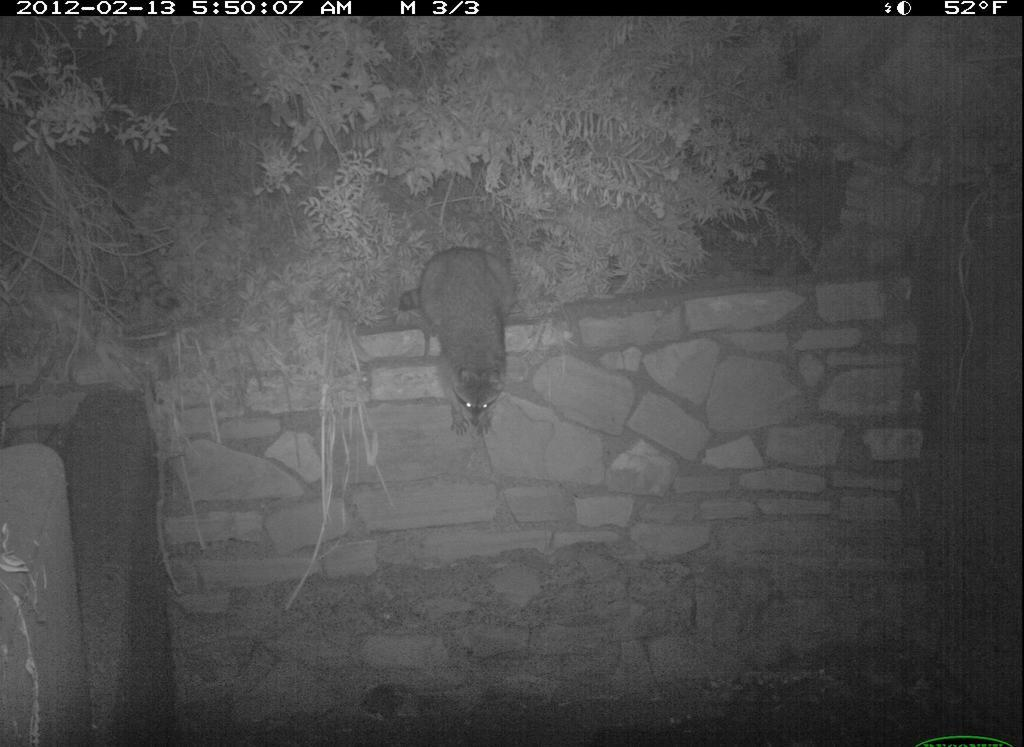raccoon: (379, 242, 537, 441)
